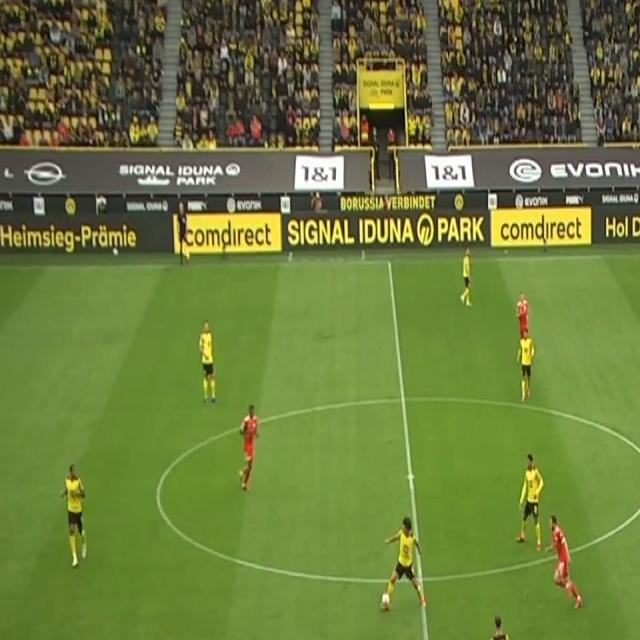ball: (380, 592, 390, 611)
